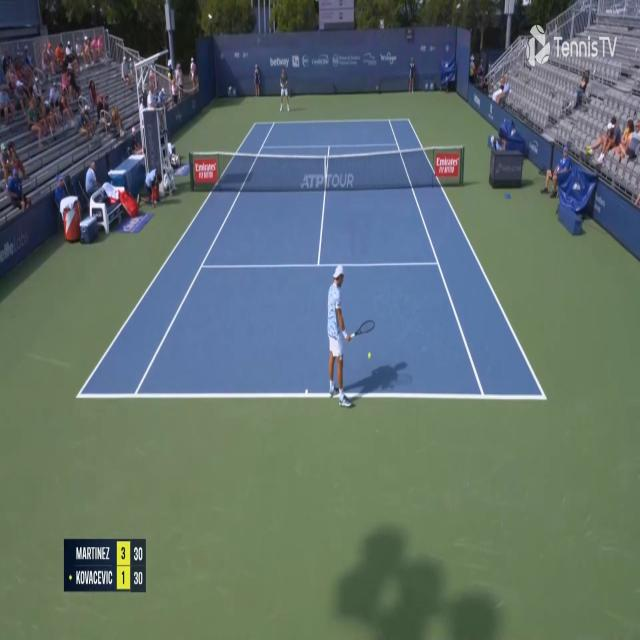tennis-player: (326, 262, 377, 410), (278, 64, 291, 113)
